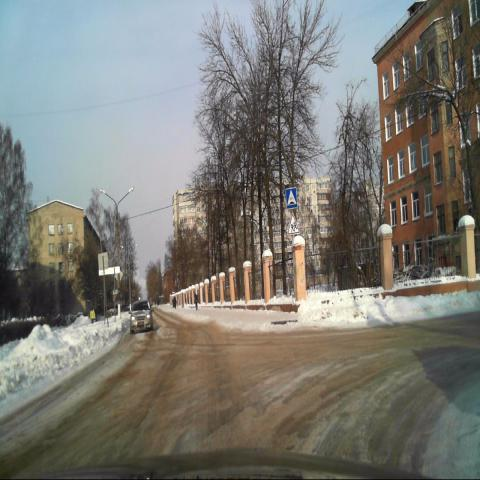1_23: (287, 213, 300, 235)
